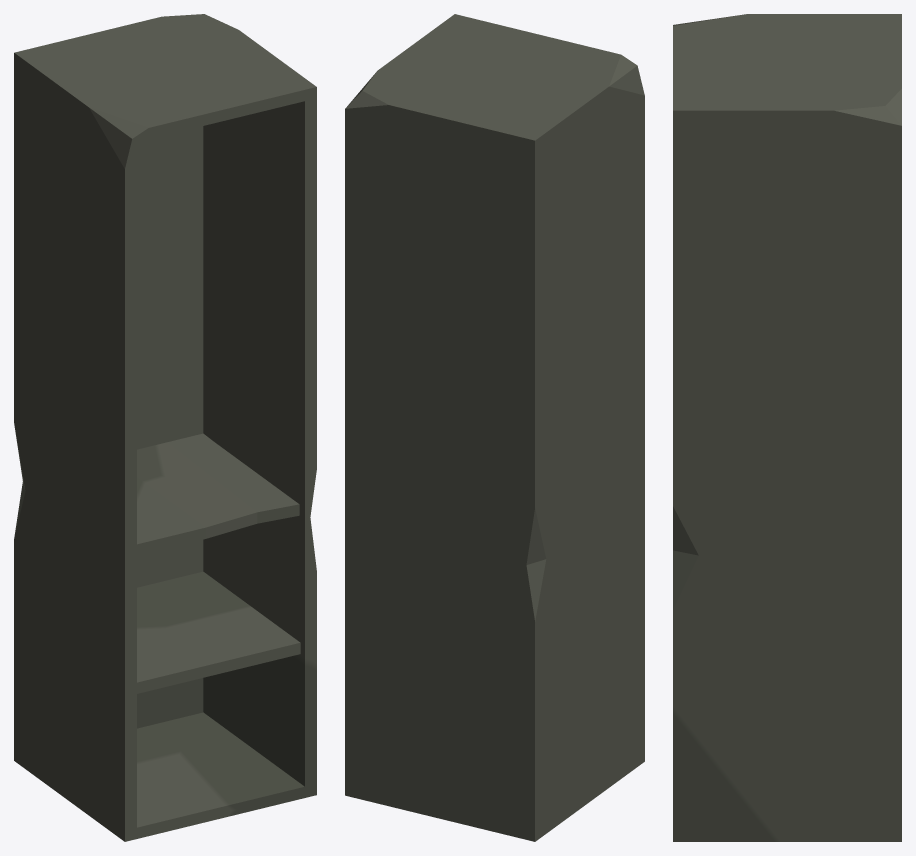
The model's file is SM_Prop_Locker_01.glb.
The picture shows the model from 3 angles, left to right: view 1: azimuth 30°, elevation 25°; view 2: azimuth 150°, elevation 25°; view 3: azimuth 270°, elevation 25°; orthographic projection. The views are drawn at different scales.
Visible parts, largest first — view 1: SM_Prop_Locker_01; view 2: SM_Prop_Locker_01; view 3: SM_Prop_Locker_01.
Part boxes in pixels (x1=…): SM_Prop_Locker_01: x1=14, y1=14, x2=316, y2=841; SM_Prop_Locker_01: x1=345, y1=14, x2=644, y2=841; SM_Prop_Locker_01: x1=673, y1=14, x2=901, y2=841.
Size of the model in its own units: 0.6573 by 2.32 by 0.6573.
Materials: 1 (1 with a texture image).
